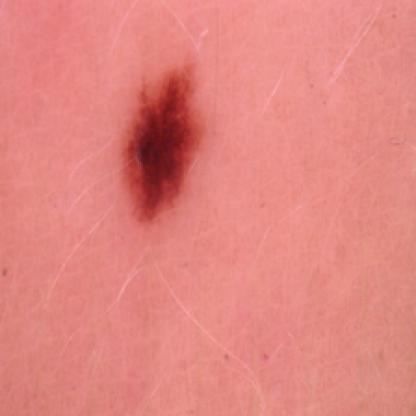benign: (111, 67, 212, 225)
